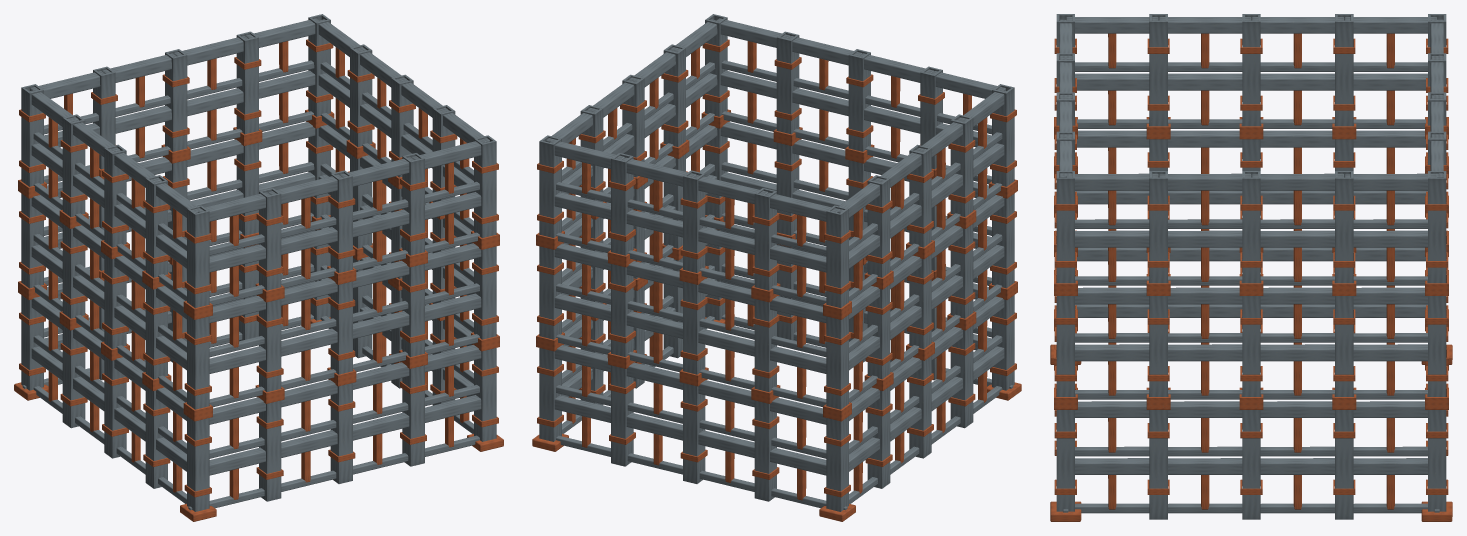
3 views of the same model, side by side, from view 1: azimuth 30°, elevation 25°; view 2: azimuth 150°, elevation 25°; view 3: azimuth 270°, elevation 25° (orthographic). The views are drawn at different scales.
Parts seen in each view (by area): view 1: Tier 2 side 0 post 0, Tier 0 side 0 post 0, Tier 1 side 0 post 0, Tier 2 side 2 post 2, Tier 2 side 0 post 1, Tier 0 side 0 post 1, Tier 2 side 0 post 3, Tier 2 side 1 post 0, Tier 2 side 2 post 1, Tier 2 side 0 post 2, Tier 0 side 0 post 3, Tier 0 side 0 post 2 (+76 smaller); view 2: Tier 2 side 3 post 0, Tier 2 side 0 post 3, Tier 0 side 3 post 0, Tier 1 side 3 post 0, Tier 2 side 2 post 3, Tier 0 side 2 post 3, Tier 2 side 0 post 2, Tier 2 side 2 post 0, Tier 2 side 2 post 1, Tier 2 side 2 post 2, Tier 0 side 2 post 2, Tier 0 side 2 post 1 (+75 smaller); view 3: Tier 2 side 1 post 1, Tier 2 side 1 post 3, Tier 2 side 1 post 2, Tier 2 side 3 post 1, Tier 2 side 3 post 3, Tier 2 side 3 post 2, Tier 2 side 1 post 0, Tier 2 side 2 post 0, Tier 0 side 1 post 1, Tier 0 side 1 post 2, Tier 0 side 1 post 3, Tier 0 side 1 post 0 (+97 smaller).
Boxes of the visible parts, box(x1,y1,x2,y2) form: Tier 2 side 0 post 0: box(187, 205, 209, 307); Tier 0 side 0 post 0: box(187, 416, 209, 511); Tier 1 side 0 post 0: box(187, 315, 209, 409); Tier 2 side 2 post 2: box(165, 49, 187, 151); Tier 2 side 0 post 1: box(259, 188, 281, 290); Tier 0 side 0 post 1: box(259, 400, 281, 501); Tier 2 side 0 post 3: box(402, 153, 424, 255); Tier 2 side 1 post 0: box(474, 135, 496, 237); Tier 2 side 2 post 1: box(236, 31, 258, 134); Tier 2 side 0 post 2: box(330, 170, 352, 272); Tier 0 side 0 post 3: box(402, 365, 424, 466); Tier 0 side 0 post 2: box(330, 383, 352, 483); Tier 2 side 3 post 0: box(826, 205, 848, 307); Tier 2 side 0 post 3: box(776, 31, 799, 134); Tier 0 side 3 post 0: box(826, 416, 848, 511); Tier 1 side 3 post 0: box(826, 315, 848, 409); Tier 2 side 2 post 3: box(754, 188, 776, 290); Tier 0 side 2 post 3: box(754, 400, 776, 501); Tier 2 side 0 post 2: box(848, 49, 870, 151); Tier 2 side 2 post 0: box(539, 135, 561, 237); Tier 2 side 2 post 1: box(611, 153, 633, 255); Tier 2 side 2 post 2: box(683, 170, 705, 272); Tier 0 side 2 post 2: box(683, 383, 705, 483); Tier 0 side 2 post 1: box(611, 365, 633, 466); Tier 2 side 1 post 1: box(1149, 171, 1167, 283); Tier 2 side 1 post 3: box(1335, 171, 1353, 283); Tier 2 side 1 post 2: box(1242, 171, 1260, 283); Tier 2 side 3 post 1: box(1335, 14, 1353, 126); Tier 2 side 3 post 3: box(1149, 14, 1167, 126); Tier 2 side 3 post 2: box(1242, 14, 1260, 126); Tier 2 side 1 post 0: box(1056, 171, 1074, 283); Tier 2 side 2 post 0: box(1428, 171, 1446, 283); Tier 0 side 1 post 1: box(1149, 410, 1167, 519); Tier 0 side 1 post 2: box(1242, 410, 1260, 519); Tier 0 side 1 post 3: box(1335, 410, 1353, 519); Tier 0 side 1 post 0: box(1056, 410, 1074, 511).
Size of the model in its own units: 1.95 by 1.82 by 1.95.
2 materials, 2 textured.
